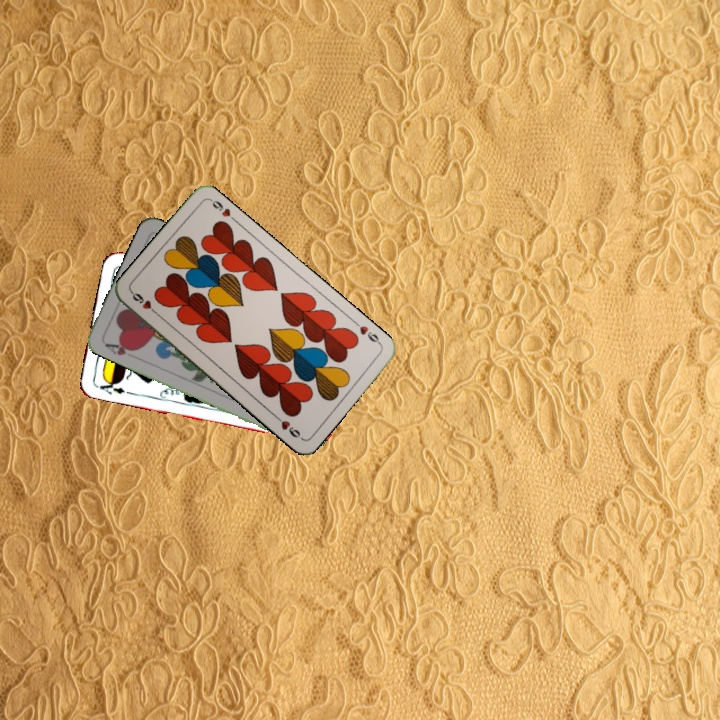EA: (92, 375, 128, 397)
H9: (350, 317, 384, 347), (128, 288, 161, 318)
HA: (101, 338, 139, 358)
